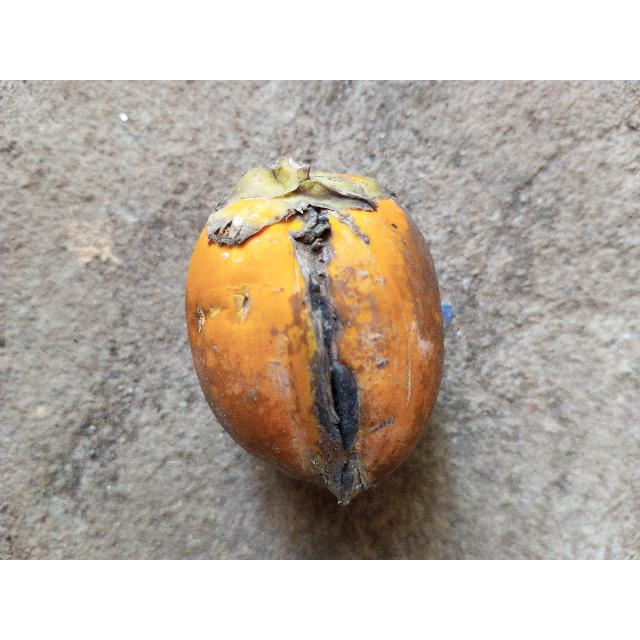damaged: (183, 161, 445, 507)
